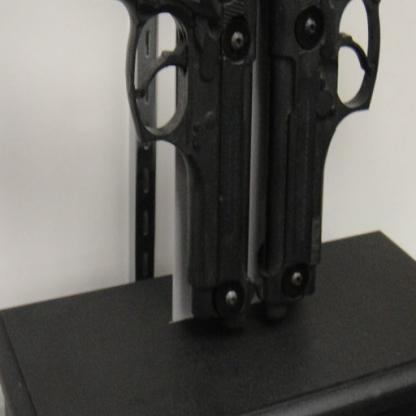gun: (7, 0, 264, 334), (266, 0, 415, 305)
